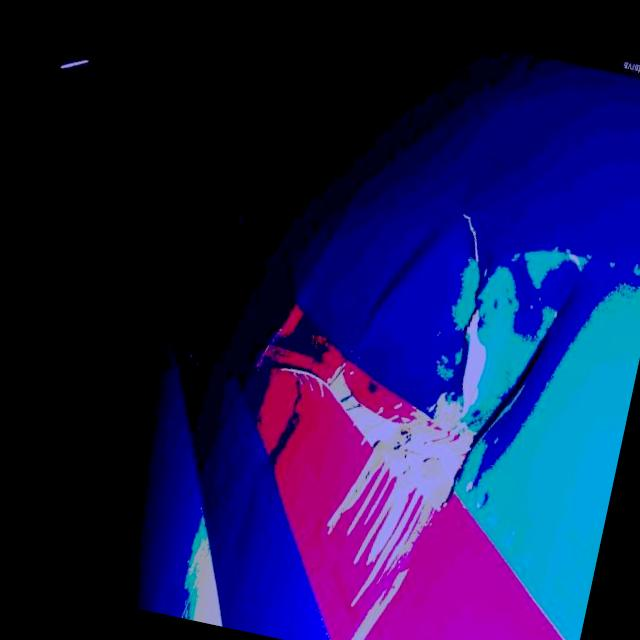crack: (434, 220, 499, 390)
